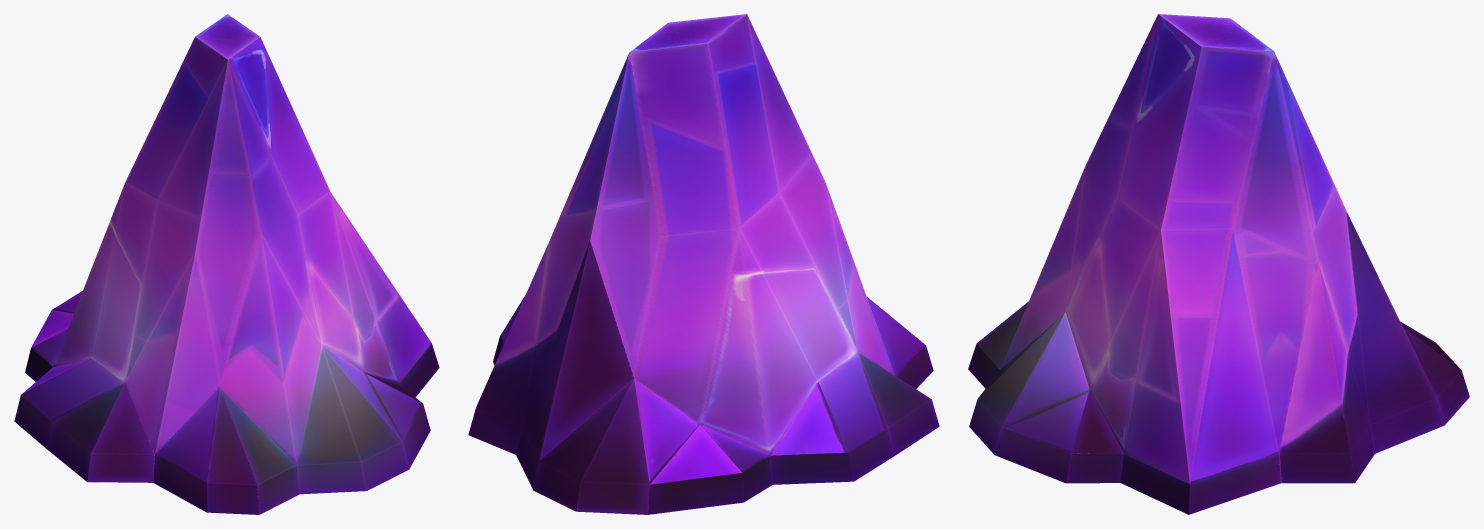
The model's file is FBX_CrystalLarge.fbx.
3 views of the same model, side by side, from view 1: azimuth 30°, elevation 25°; view 2: azimuth 150°, elevation 25°; view 3: azimuth 270°, elevation 25° (orthographic). The views are drawn at different scales.
Parts seen in each view (by area): view 1: crystal_medium; view 2: crystal_medium; view 3: crystal_medium.
Boxes of the visible parts, x1=… form: crystal_medium: x1=14, y1=14, x2=439, y2=514; crystal_medium: x1=468, y1=14, x2=939, y2=514; crystal_medium: x1=968, y1=14, x2=1469, y2=514.
Bounding box in the file's own units: 1217 × 1129 × 1318.
1 material, 1 textured.
